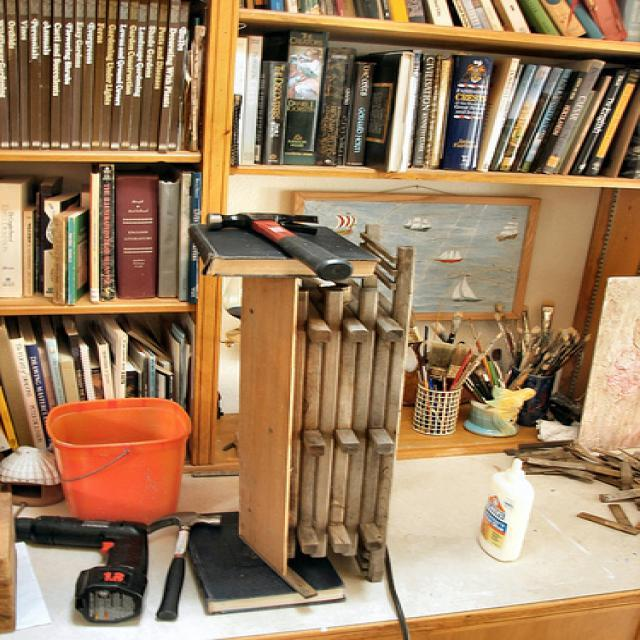drill: (0, 512, 152, 630)
hammer: (204, 208, 352, 284), (138, 508, 225, 624)
